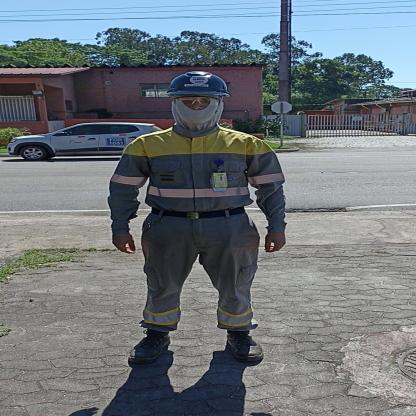Balaclava: (171, 96, 223, 130)
Capacete: (170, 70, 229, 97)
